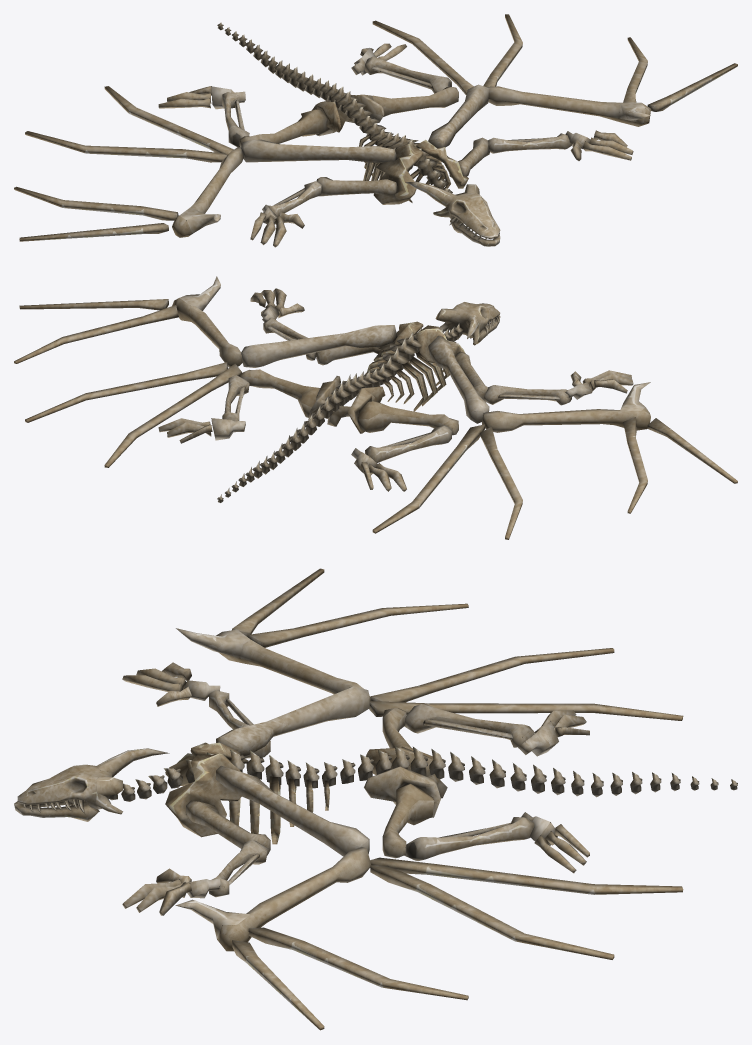
File: Toon_Skeleton_02.fbx
3 views of the same model, one above another, from view 1: azimuth 30°, elevation 25°; view 2: azimuth 150°, elevation 25°; view 3: azimuth 270°, elevation 25° (orthographic). The views are drawn at different scales.
Parts seen in each view (by area): view 1: Toon_Skeleton_02; view 2: Toon_Skeleton_02; view 3: Toon_Skeleton_02.
Boxes of the visible parts, x1,y1,x2,y2 form: Toon_Skeleton_02: (14, 14, 737, 247); Toon_Skeleton_02: (14, 276, 737, 539); Toon_Skeleton_02: (14, 568, 737, 1030).
Bounding box in the file's own units: 84.62 × 7.45 × 56.4.
